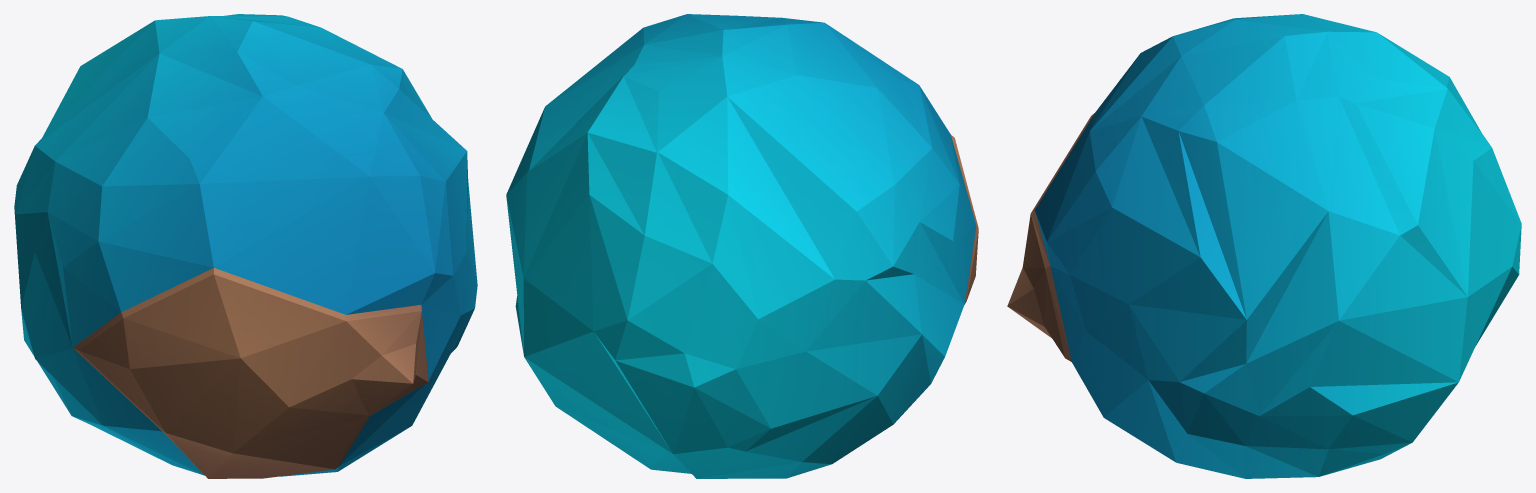
The model's file is daphnis.FBX.
3 renders of one model, left to right at view 1: azimuth 30°, elevation 25°; view 2: azimuth 150°, elevation 25°; view 3: azimuth 270°, elevation 25°, orthographic.
Parts seen in each view (by area): view 1: daphnis; view 2: daphnis; view 3: daphnis.
Boxes of the visible parts, x1,y1,x2,y2 form: daphnis: (14, 14, 477, 478); daphnis: (506, 14, 978, 478); daphnis: (1007, 14, 1521, 478).
Size of the model in its own units: 14.5 by 14.58 by 15.68.
